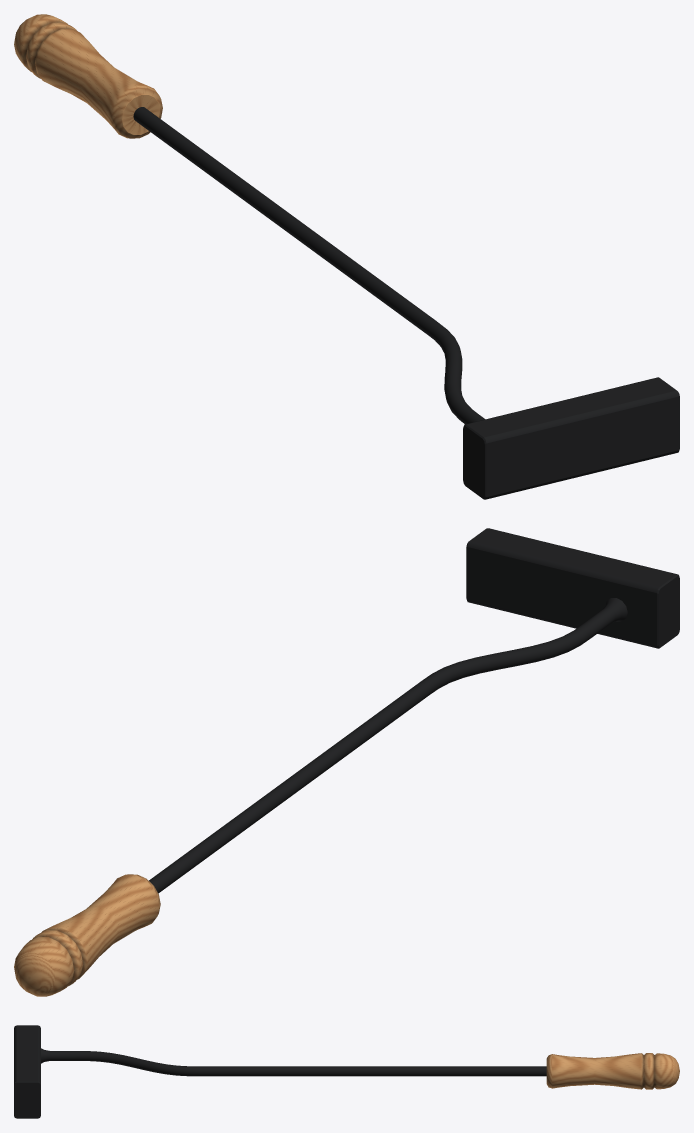
The model's file is atizador.glb.
3 renders of one model, top to bottom at view 1: azimuth 30°, elevation 25°; view 2: azimuth 150°, elevation 25°; view 3: azimuth 270°, elevation 25°, orthographic. The views are drawn at different scales.
Parts seen in each view (by area): view 1: Cabeza_Atizador, Mango_Madera, Varilla_Hierro; view 2: Cabeza_Atizador, Varilla_Hierro, Mango_Madera; view 3: Varilla_Hierro, Mango_Madera, Cabeza_Atizador.
Boxes of the visible parts, box(x1,y1,x2,y2) form: Cabeza_Atizador: box(463, 377, 679, 499); Mango_Madera: box(14, 14, 162, 138); Varilla_Hierro: box(133, 107, 484, 424); Cabeza_Atizador: box(466, 528, 679, 648); Varilla_Hierro: box(149, 598, 627, 893); Mango_Madera: box(14, 874, 160, 996); Varilla_Hierro: box(41, 1048, 546, 1076); Mango_Madera: box(546, 1053, 679, 1089); Cabeza_Atizador: box(14, 1025, 40, 1118).
Size of the model in its own units: 0.115 by 0.0352 by 0.57.
2 materials, 1 textured.
